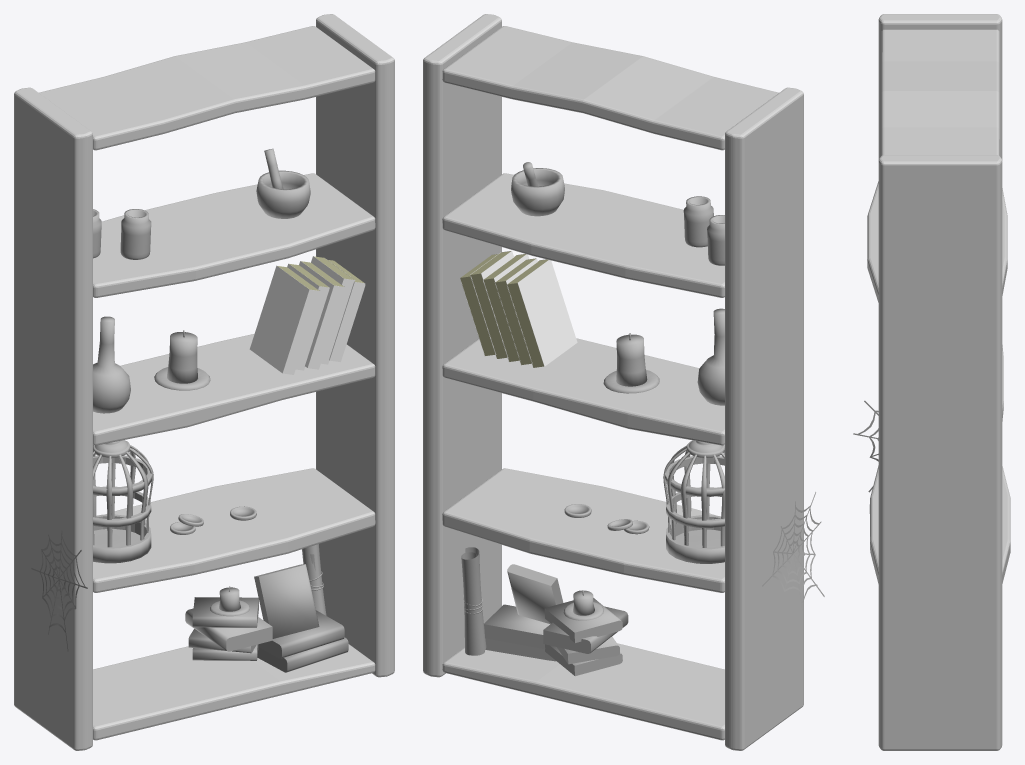
The model's file is Estante_Cheia.fbx.
3 renders of one model, left to right at view 1: azimuth 30°, elevation 25°; view 2: azimuth 150°, elevation 25°; view 3: azimuth 270°, elevation 25°, orthographic. The views are drawn at different scales.
Visible parts, largest first — view 1: Estante_Cheia; view 2: Estante_Cheia; view 3: Estante_Cheia.
Part boxes in pixels (x1,y1,x2,y2): Estante_Cheia: [14, 14, 394, 750]; Estante_Cheia: [423, 14, 824, 750]; Estante_Cheia: [853, 14, 1010, 750].
Bounding box in the file's own units: 125 × 220 × 53.28.
